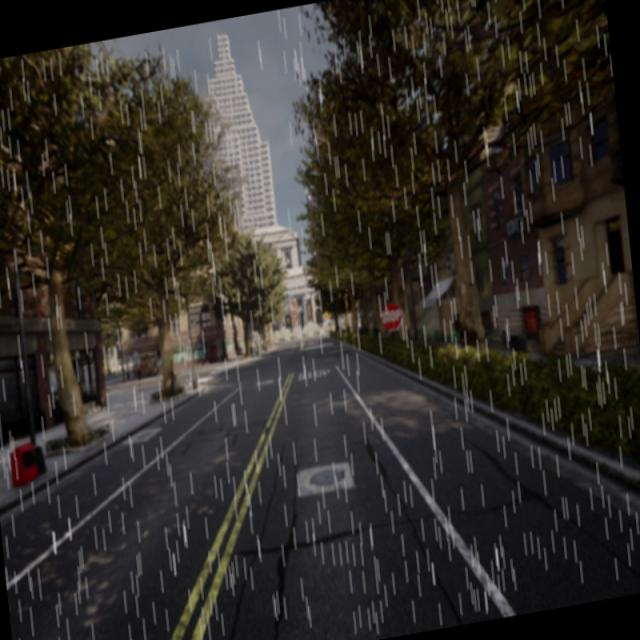stop sign: (378, 299, 404, 334)
